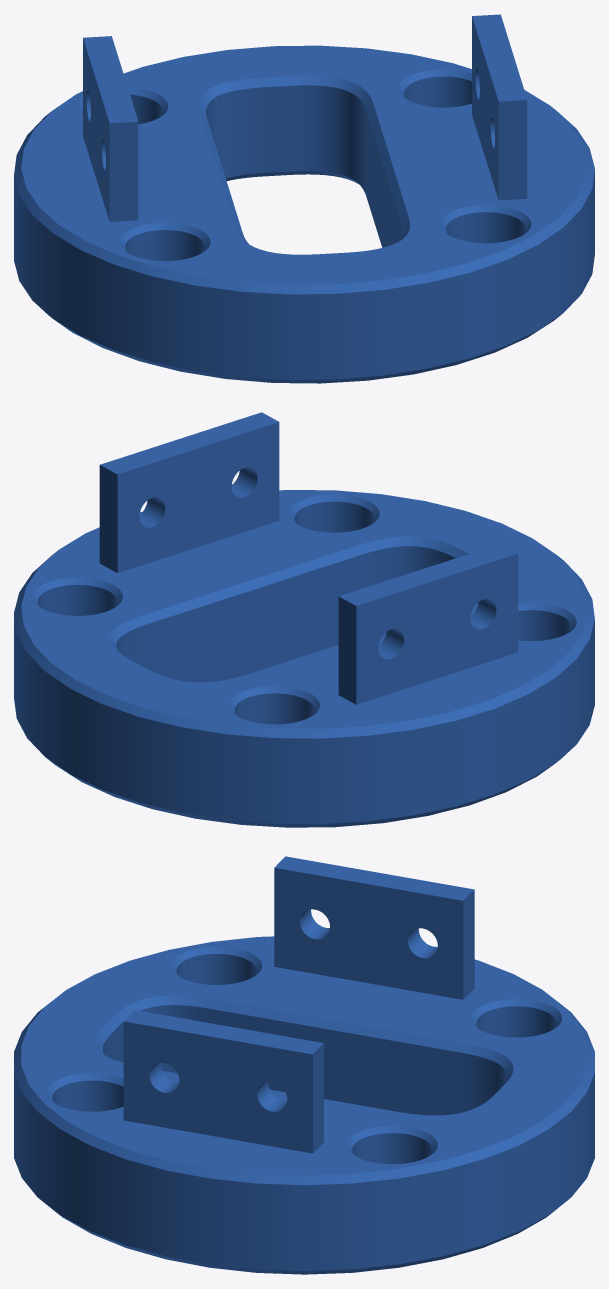
Rendered from 04_Modular End Effector_Base.dae.
3 renders of one model, top to bottom at view 1: azimuth 30°, elevation 25°; view 2: azimuth 150°, elevation 25°; view 3: azimuth 270°, elevation 25°, orthographic.
Visible parts, largest first — view 1: Modular_End_Effector_Base; view 2: Modular_End_Effector_Base; view 3: Modular_End_Effector_Base.
Part boxes in pixels (x1,y1,x2,y2): Modular_End_Effector_Base: (14,14,594,383); Modular_End_Effector_Base: (14,412,594,827); Modular_End_Effector_Base: (14,856,594,1274).
Size of the model in its own units: 80 by 79.73 by 30.
